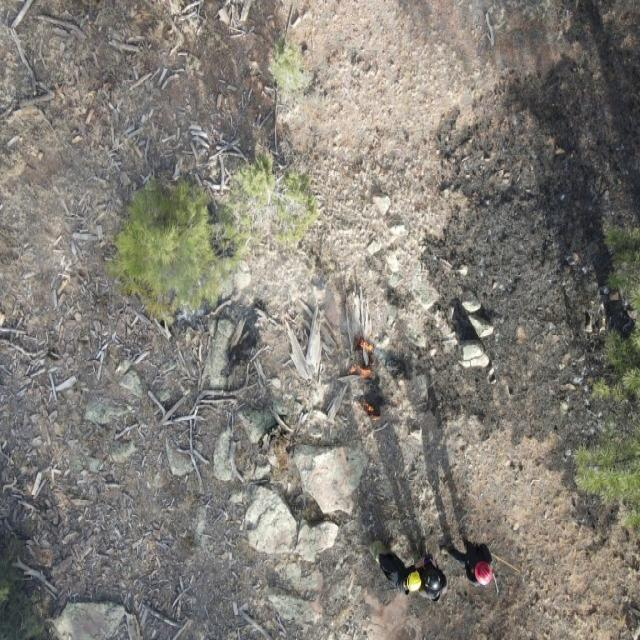fire: (346, 337, 379, 382), (352, 395, 379, 423)
smoke: (222, 210, 380, 340), (7, 145, 155, 273)
